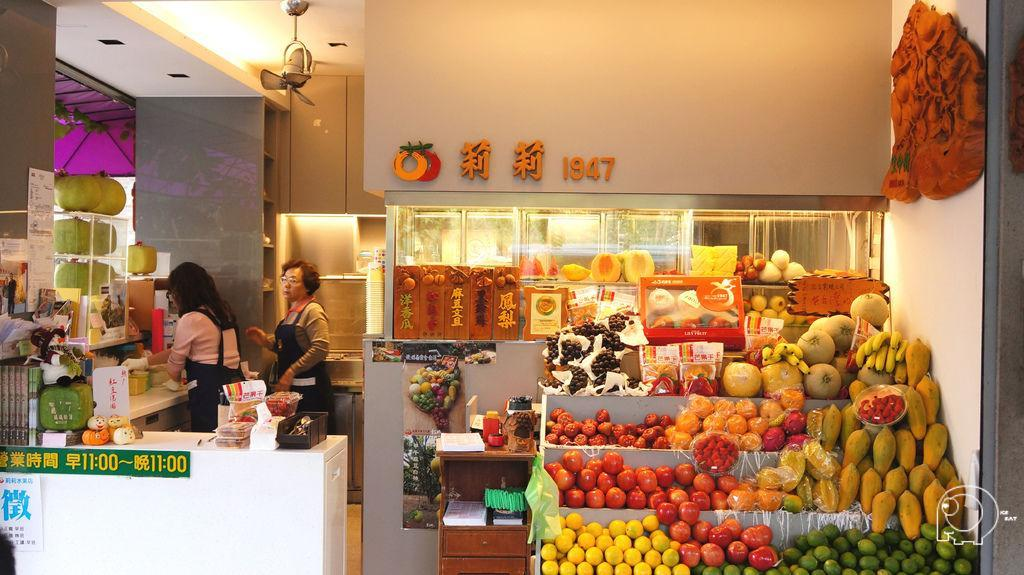apple: (54, 172, 129, 217)
